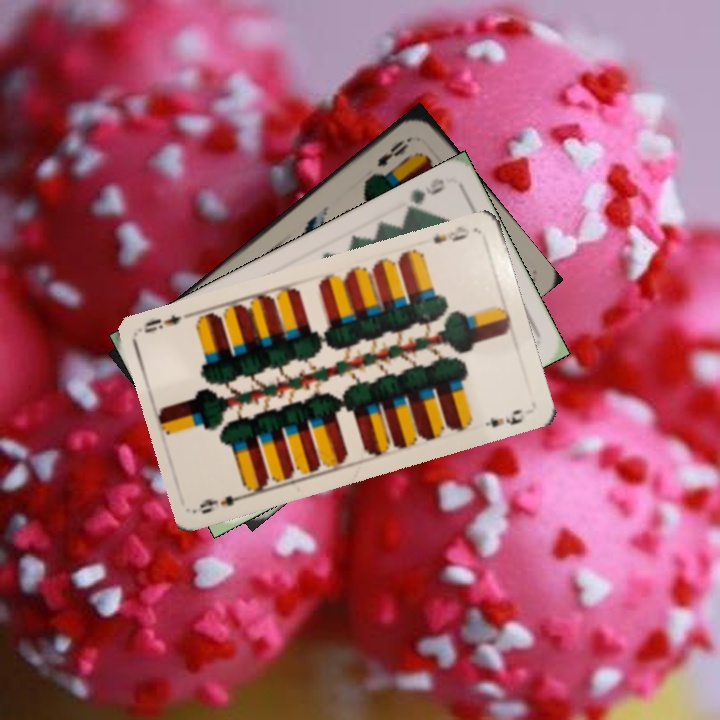E9: (195, 480, 253, 517), (429, 222, 472, 247)
EO: (372, 132, 415, 170)
G9: (401, 174, 448, 218)
